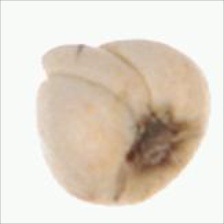L5: (38, 41, 151, 120), (124, 102, 193, 176)
L6: (29, 39, 215, 211)
